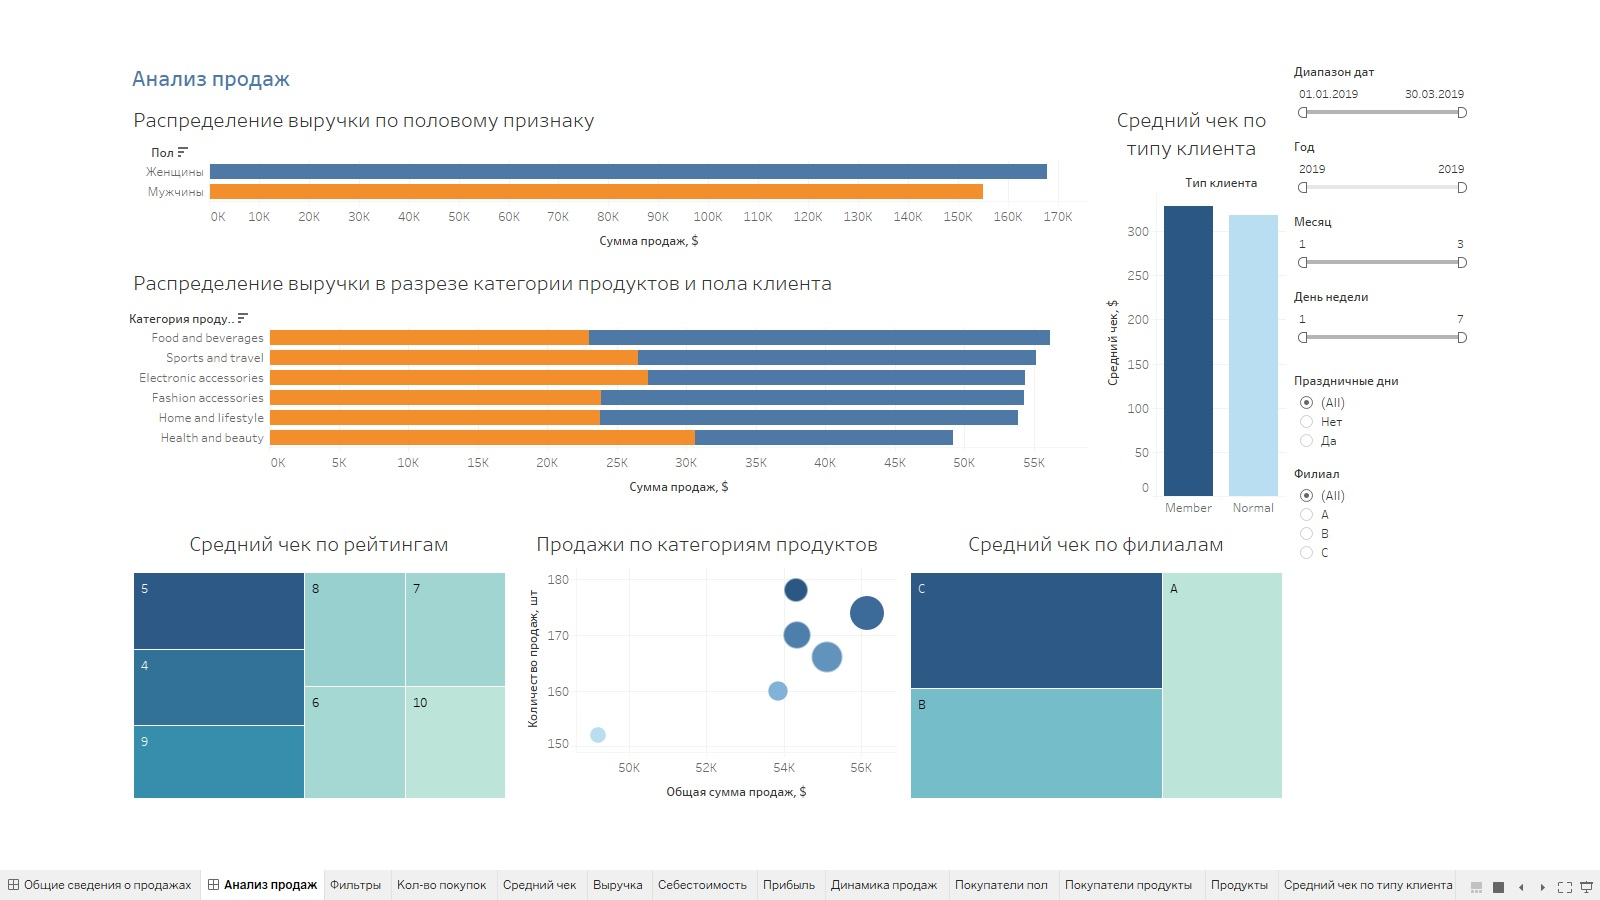

The dashboard page shown, as its layout file describes it:
{"tool":"tableau","page":{"name":"Анализ продаж","canvas":[1366,768],"ordinal":0},"visuals":[{"type":"text","box":[8,8,1164.8,37.9]},{"type":"filter","title":"Продукты","param":"[federated.0mm8i601j8gw1p1fwdhrr080q4rk].[none:date:qk]","box":[1172.8,8,185.1,75]},{"type":"worksheet","title":"Покупатели пол","mark":"Automatic","rows":["gender"],"cols":["total"],"box":[8,45.9,968,163]},{"type":"worksheet","title":"Средний чек по типу клиента","mark":"Automatic","rows":["Calculation_875387231977488386"],"cols":["customer_type"],"box":[976,45.9,196.8,424.1]},{"type":"filter","title":"Продукты","param":"[federated.0mm8i601j8gw1p1fwdhrr080q4rk].[none:year:qk]","box":[1172.8,83,185.1,75]},{"type":"filter","title":"Продукты","param":"[federated.0mm8i601j8gw1p1fwdhrr080q4rk].[none:month:qk]","box":[1172.8,158,185.1,75]},{"type":"worksheet","title":"Покупатели продукты","mark":"Automatic","rows":["product_line"],"cols":["total"],"box":[8,208.9,968,246]},{"type":"filter","title":"Продукты","param":"[federated.0mm8i601j8gw1p1fwdhrr080q4rk].[none:week_day:qk]","box":[1172.8,233,185.1,83.9]},{"type":"filter","title":"Продукты","param":"[federated.0mm8i601j8gw1p1fwdhrr080q4rk].[none:is_holyday:nk]","box":[1172.8,316.9,185.1,93]},{"type":"filter","title":"Фильтры","param":"[federated.0mm8i601j8gw1p1fwdhrr080q4rk].[none:branch_name:nk]","box":[1172.8,410,185.1,119]},{"type":"worksheet","title":"Средний чек по рейтингу","mark":"Automatic","box":[8,470,388.3,290]},{"type":"worksheet","title":"Продукты","mark":"Automatic","rows":["fact_sales (dds.fact_sales)_3BEFE247EB9249AF8CCB8348402336E9"],"cols":["total"],"box":[396.3,470,388.3,290]},{"type":"worksheet","title":"Средний чек по филиалам","mark":"Automatic","box":[784.5,470,388.3,290]},{"type":"worksheet","title":"Фильтры","mark":"Automatic","box":[1172.8,529,185.1,231]}]}

Visuals, with their boxes on the page's 1366x768 design canvas (x1, y1, x2, y2). These are canvas units, not pixel positions in the 1600x900 screenshot, which may show the page scaled, cropped or inside an application window:
text: 8, 8, 1173, 46
"Продукты" filter: 1173, 8, 1358, 83
"Покупатели пол" worksheet: 8, 46, 976, 209
"Средний чек по типу клиента" worksheet: 976, 46, 1173, 470
"Продукты" filter: 1173, 83, 1358, 158
"Продукты" filter: 1173, 158, 1358, 233
"Покупатели продукты" worksheet: 8, 209, 976, 455
"Продукты" filter: 1173, 233, 1358, 317
"Продукты" filter: 1173, 317, 1358, 410
"Фильтры" filter: 1173, 410, 1358, 529
"Средний чек по рейтингу" worksheet: 8, 470, 396, 760
"Продукты" worksheet: 396, 470, 785, 760
"Средний чек по филиалам" worksheet: 784, 470, 1173, 760
"Фильтры" worksheet: 1173, 529, 1358, 760
